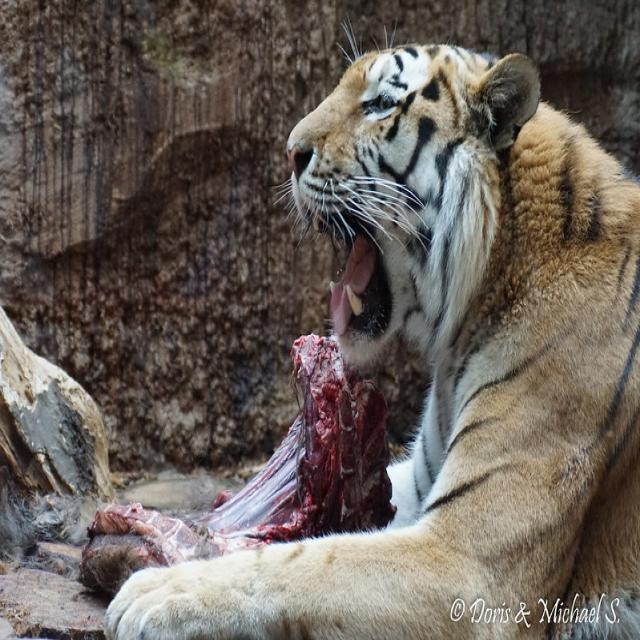Tiger: (136, 19, 626, 596)
